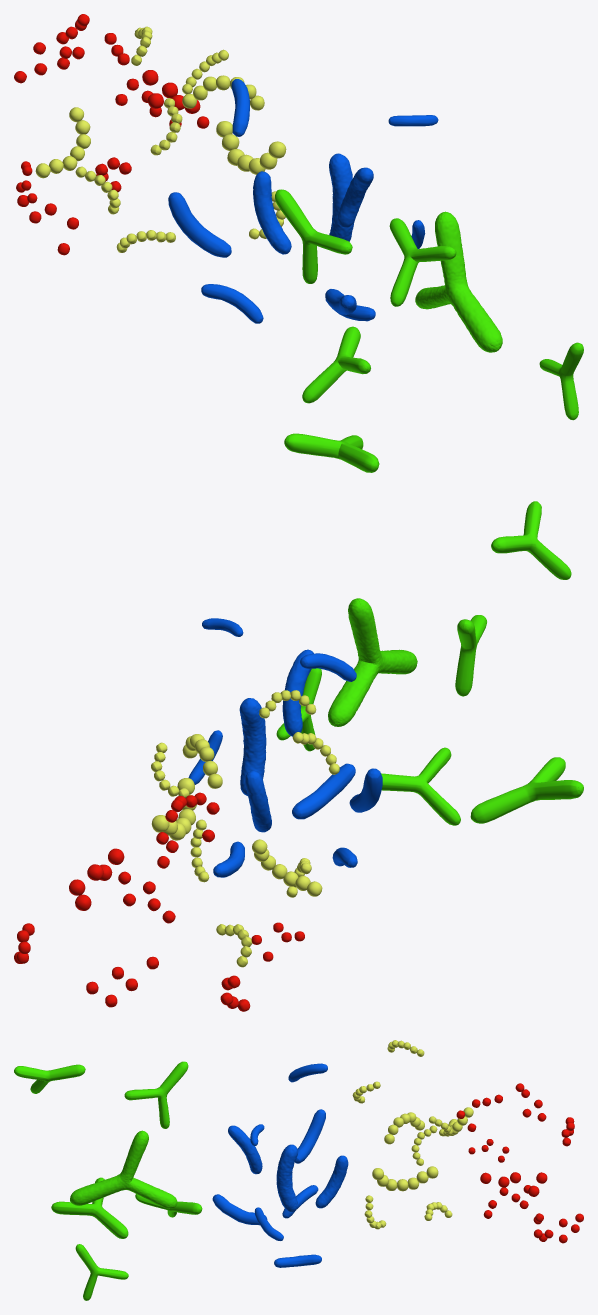
The model's file is bacteria.fbx.
3 renders of one model, top to bottom at view 1: azimuth 30°, elevation 25°; view 2: azimuth 150°, elevation 25°; view 3: azimuth 270°, elevation 25°, orthographic. The views are drawn at different scales.
Visible parts, largest first — view 1: quadro_5_2.001; view 2: quadro_5_2.001; view 3: quadro_5_2.001.
Boxes of the visible parts, x1,y1,x2,y2 form: quadro_5_2.001: (14, 14, 583, 472); quadro_5_2.001: (14, 501, 583, 1011); quadro_5_2.001: (14, 1040, 583, 1300).
Bounding box in the file's own units: 1722 × 1610 × 4279.
